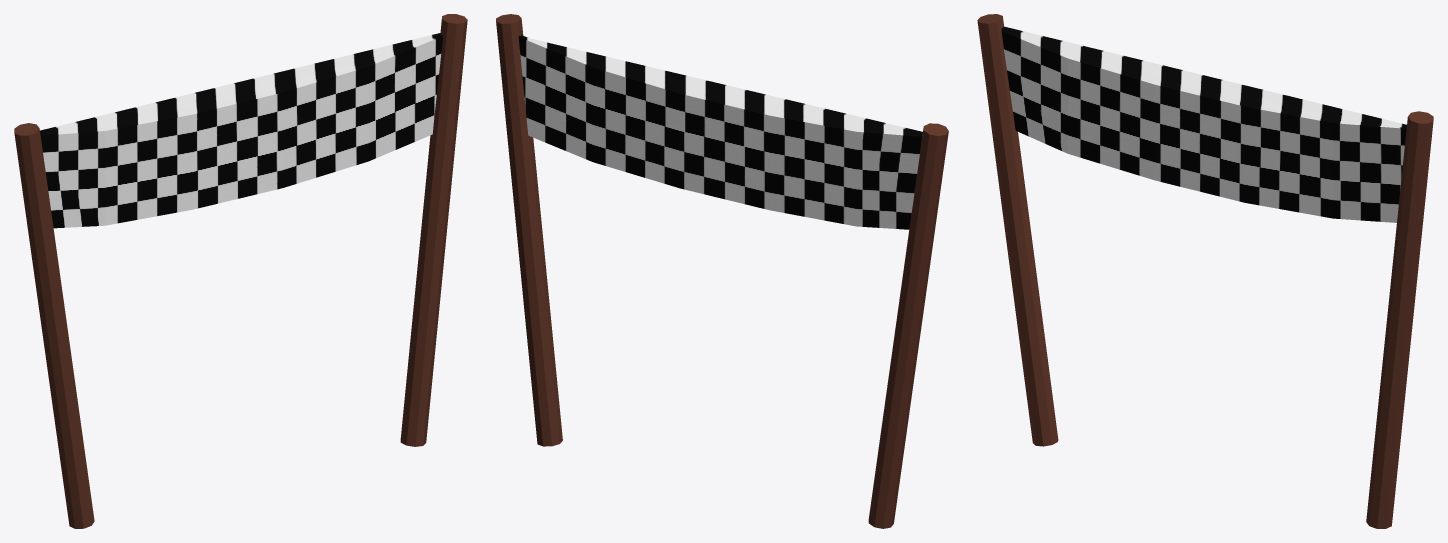
File: Finish.fbx
3 renders of one model, left to right at view 1: azimuth 30°, elevation 25°; view 2: azimuth 150°, elevation 25°; view 3: azimuth 330°, elevation 25°, orthographic.
Parts seen in each view (by area): view 1: Cube, Cylinder.001, Cylinder; view 2: Cube, Cylinder.001, Cylinder; view 3: Cube, Cylinder, Cylinder.001.
Part boxes in pixels (box(x1,y1,x2,y2)): Cube: box(40, 33, 443, 228); Cylinder.001: box(400, 14, 467, 446); Cylinder: box(14, 123, 94, 528); Cube: box(518, 35, 922, 229); Cylinder.001: box(496, 14, 562, 446); Cylinder: box(868, 123, 948, 528); Cube: box(1001, 26, 1406, 222); Cylinder: box(977, 14, 1058, 446); Cylinder.001: box(1366, 111, 1433, 528).
Size of the model in its own units: 4413 by 3895 by 218.
